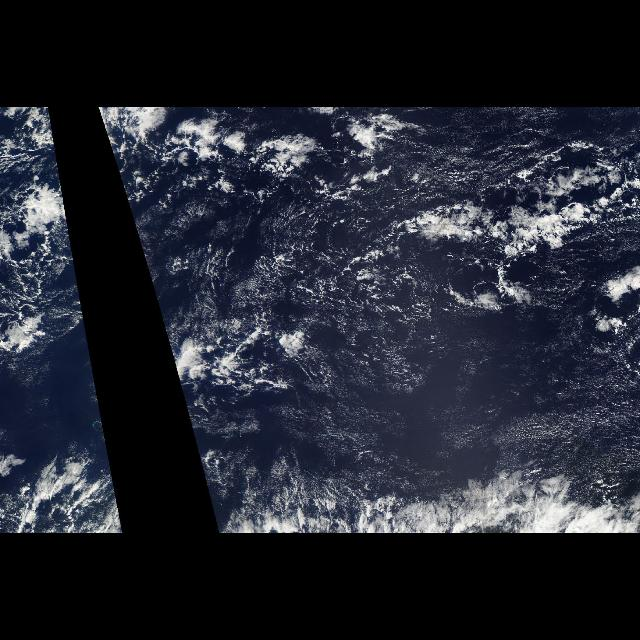Gravel: (236, 173, 454, 389)
Sugar: (274, 399, 640, 493)
